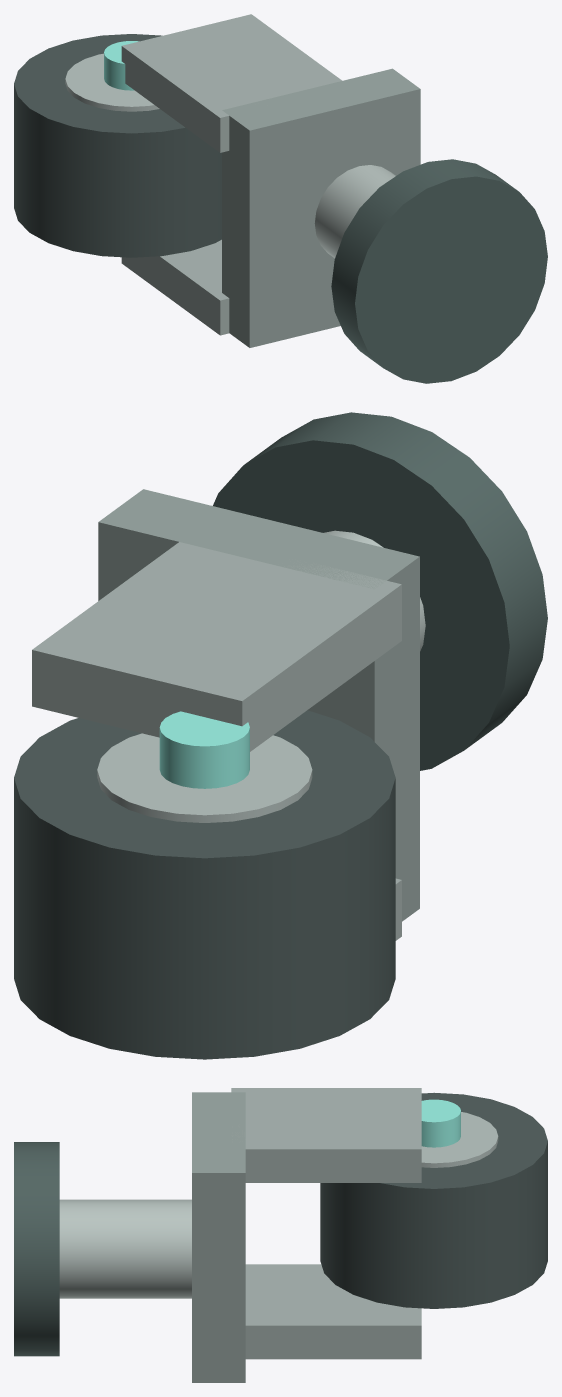
The model's file is caster.glb.
3 views of the same model, one above another, from view 1: azimuth 30°, elevation 25°; view 2: azimuth 150°, elevation 25°; view 3: azimuth 270°, elevation 25° (orthographic). The views are drawn at different scales.
Parts seen in each view (by area): view 1: swivel_bearing, fork_bridge, caster_tire, fork_left, fork_right, swivel_stem, caster_rim, caster_axle; view 2: caster_tire, swivel_bearing, fork_left, fork_bridge, caster_rim, caster_axle; view 3: caster_tire, fork_left, fork_bridge, fork_right, swivel_stem, swivel_bearing, caster_rim, caster_axle.
Boxes of the visible parts, x1,y1,x2,y2 form: swivel_bearing: [331, 159, 547, 383]; fork_bridge: [222, 68, 420, 347]; caster_tire: [14, 34, 221, 257]; fork_left: [121, 14, 342, 152]; fork_right: [121, 239, 229, 335]; swivel_stem: [314, 165, 395, 258]; caster_rim: [65, 53, 159, 111]; caster_axle: [104, 41, 138, 90]; caster_tire: [14, 710, 395, 1059]; swivel_bearing: [213, 412, 547, 770]; fork_left: [32, 542, 401, 751]; fork_bridge: [98, 489, 419, 921]; caster_rim: [97, 733, 312, 822]; caster_axle: [159, 711, 249, 788]; caster_tire: [320, 1092, 547, 1308]; fork_left: [231, 1088, 421, 1182]; fork_bridge: [192, 1092, 245, 1382]; fork_right: [245, 1264, 421, 1359]; swivel_stem: [59, 1199, 191, 1298]; swivel_bearing: [14, 1142, 59, 1356]; caster_rim: [421, 1112, 498, 1167]; caster_axle: [421, 1099, 460, 1147].
Size of the model in its own units: 0.162 by 0.112 by 0.258.
